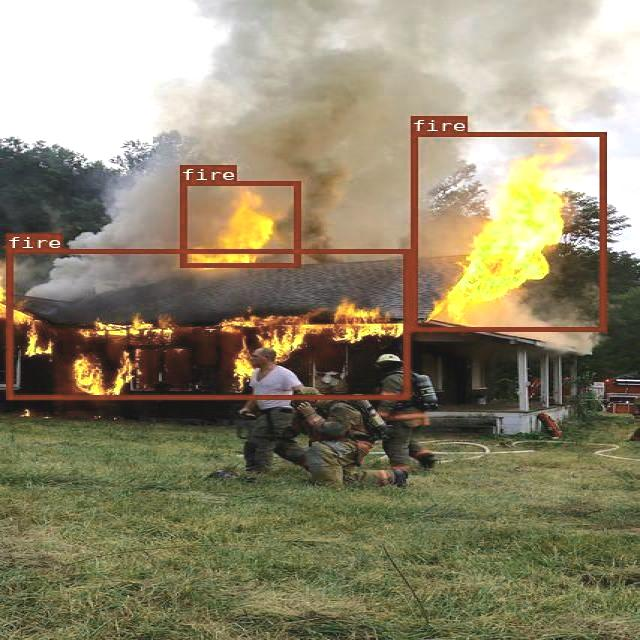fire: (4, 249, 408, 399), (410, 132, 604, 330), (180, 180, 300, 267)
